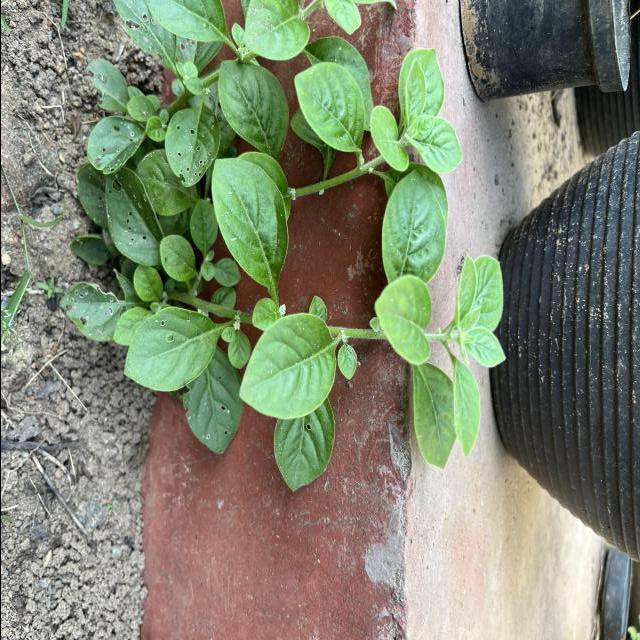Aerva lanata: (235, 310, 338, 422), (209, 155, 290, 292), (379, 166, 447, 288), (291, 59, 366, 159), (216, 57, 290, 156), (372, 273, 432, 368), (409, 362, 459, 472), (414, 115, 465, 177), (472, 253, 506, 333)
